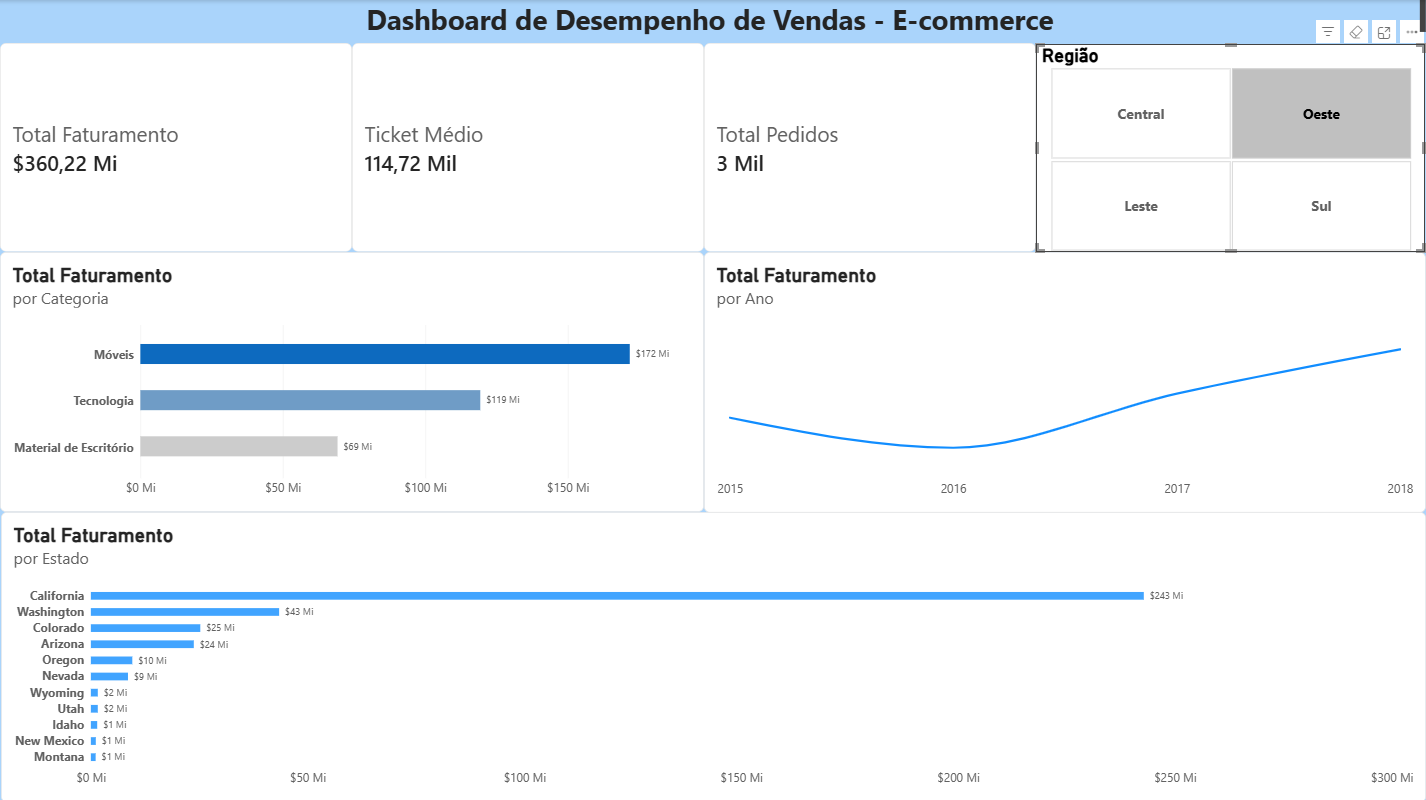

What the dashboard file says about the page in this screenshot:
{"tool":"powerbi","page":{"name":"Página 1","canvas":[1920,1080],"ordinal":0},"visuals":[{"type":"cardVisual","fields":{"Data":["VendasEcommerce.Total Faturamento"]},"box":[0,57.9,474,281.4],"z":0},{"type":"cardVisual","fields":{"Data":["VendasEcommerce.Ticket Médio"]},"box":[474,57.9,474,281.4],"z":1000},{"type":"cardVisual","fields":{"Data":["VendasEcommerce.Total Pedidos"]},"box":[948,57.9,447.1,281.4],"z":2000},{"type":"barChart","fields":{"Category":["VendasEcommerce.Category"],"Y":["VendasEcommerce.Total Faturamento"]},"box":[0,339.4,948,350.1],"z":3000},{"type":"lineChart","fields":{"Category":["VendasEcommerce.Order_Date.Variação.Hierarquia de datas.Ano","VendasEcommerce.Order_Date.Variação.Hierarquia de datas.Trimestre","VendasEcommerce.Order_Date.Variação.Hierarquia de datas.Mês","VendasEcommerce.Order_Date.Variação.Hierarquia de datas.Dia"],"Y":["VendasEcommerce.Total Faturamento"]},"box":[948,339.4,972.3,351.5],"z":4000},{"type":"clusteredBarChart","fields":{"Category":["VendasEcommerce.State"],"Y":["VendasEcommerce.Total Faturamento"]},"box":[1.3,689.5,1919,390.5],"z":5000},{"type":"slicer","fields":{"Values":["VendasEcommerce.Region"]},"box":[1395.1,59.3,523.8,280.1],"z":6000},{"type":"textbox","box":[0,0,1920,45.8],"z":7000}]}

Visuals, with their boxes in screenshot pixels (x1, y1, x2, y2), scaled from the page's 1920x1080 canvas onto the 1426x800 screenshot:
cardVisual - VendasEcommerce.Total Faturamento: 0:43:352:251
cardVisual - VendasEcommerce.Ticket Médio: 352:43:704:251
cardVisual - VendasEcommerce.Total Pedidos: 704:43:1036:251
barChart - VendasEcommerce.Category x VendasEcommerce.Total Faturamento: 0:251:704:511
lineChart - VendasEcommerce.Order_Date.Variação.Hierarquia de datas.Ano x VendasEcommerce.Order_Date.Variação.Hierarquia de datas.Trimestre: 704:251:1425:512
clusteredBarChart - VendasEcommerce.State x VendasEcommerce.Total Faturamento: 1:511:1425:799
slicer - VendasEcommerce.Region: 1036:44:1425:251
textbox: 0:0:1425:34
